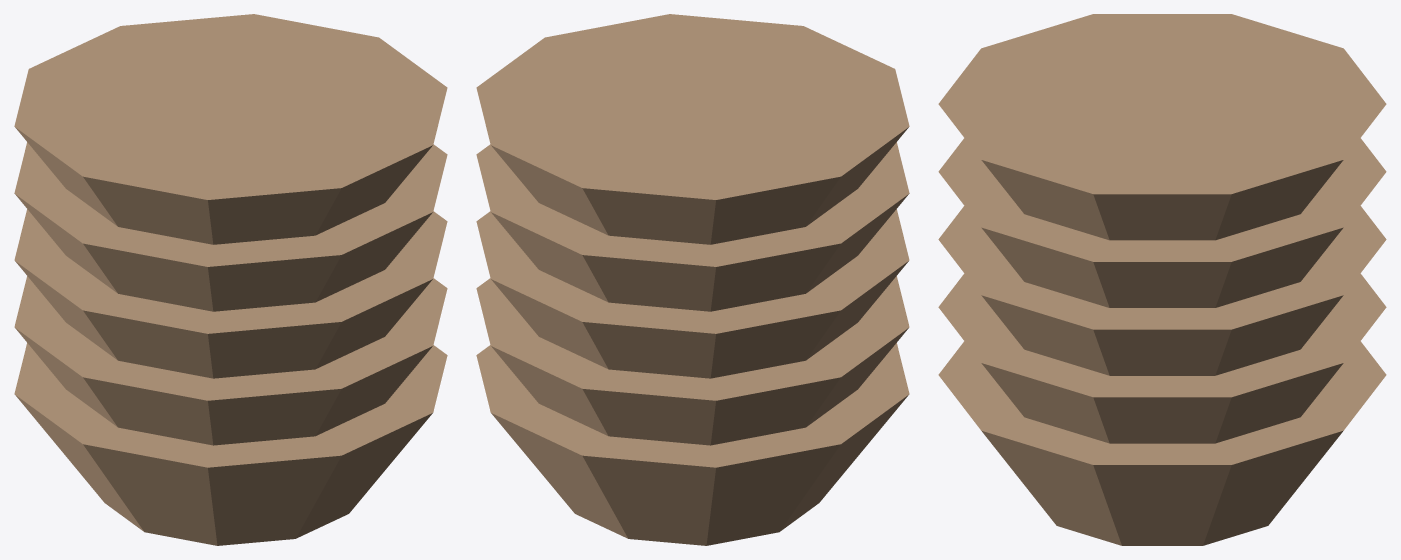
Rendered from BowlStack.fbx.
The picture shows the model from 3 angles, left to right: view 1: azimuth 30°, elevation 25°; view 2: azimuth 150°, elevation 25°; view 3: azimuth 270°, elevation 25°; orthographic projection.
Parts seen in each view (by area): view 1: BowlStack; view 2: BowlStack; view 3: BowlStack.
Part boxes in pixels (x1,y1,x2,y2): BowlStack: (14,14,447,545); BowlStack: (476,14,909,545); BowlStack: (938,14,1386,545).
Size of the model in its own units: 0.2283 by 0.23 by 0.24.
